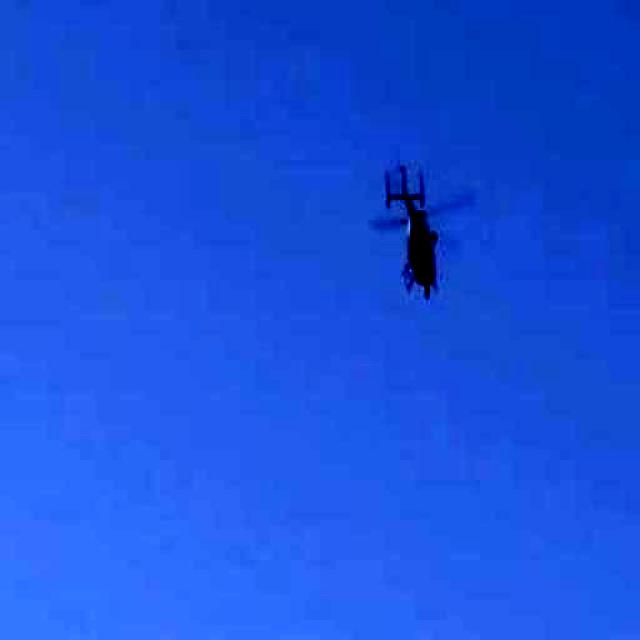drone: (358, 162, 479, 332)
